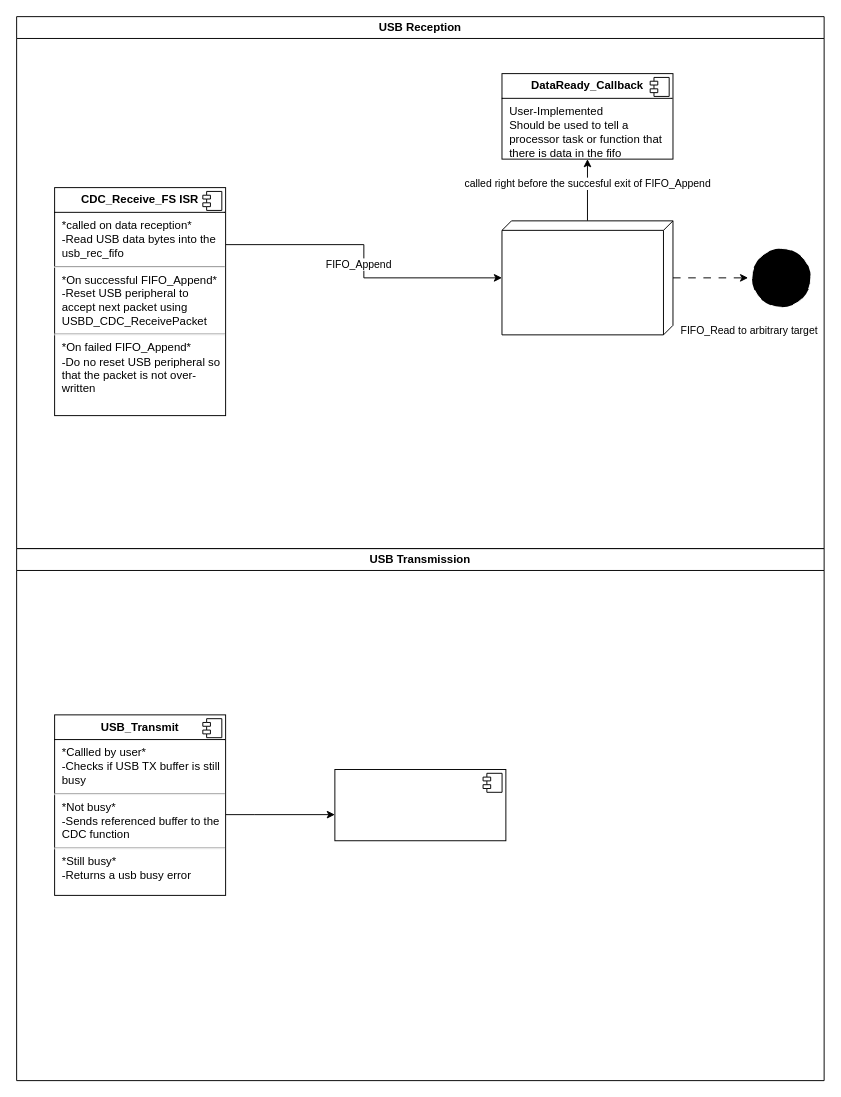
Some shapes in this 841 by 1097 pixel diagram are drawn without their labels. The centre of each missing label's shape, as x and y in pixels:
"CDC_Transmit_FS -Copies passed data into USB out buffer to be sent" goes at [420,805].
"usb_rec_fifo 512-byte FIFO" goes at [587,277].
